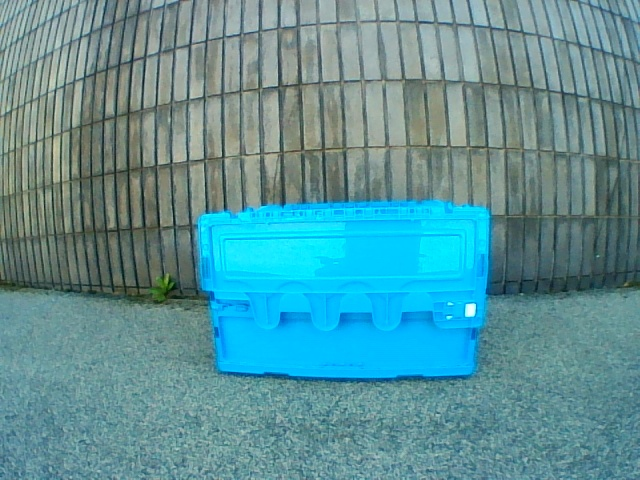blue_box: (198, 201, 491, 379)
